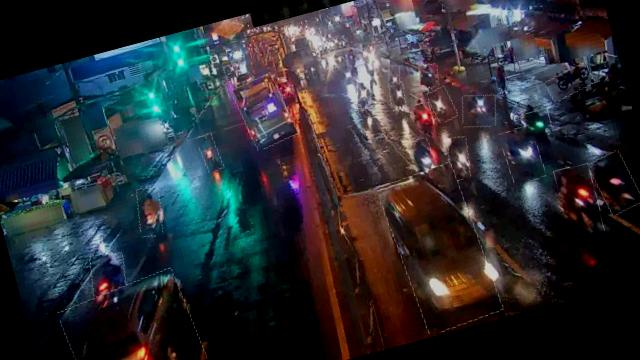Bike: (552, 162, 606, 239), (588, 149, 640, 217), (84, 249, 134, 311), (499, 124, 546, 186), (130, 185, 168, 238), (543, 63, 595, 100), (457, 90, 500, 132), (406, 136, 439, 182), (442, 134, 474, 181), (426, 84, 457, 124), (404, 101, 436, 139), (197, 132, 223, 173), (524, 107, 554, 142), (416, 62, 442, 90), (385, 80, 408, 111), (352, 80, 374, 110), (386, 64, 403, 86)
Bus: (232, 72, 296, 150)
Car: (378, 160, 502, 336), (56, 268, 208, 360)
